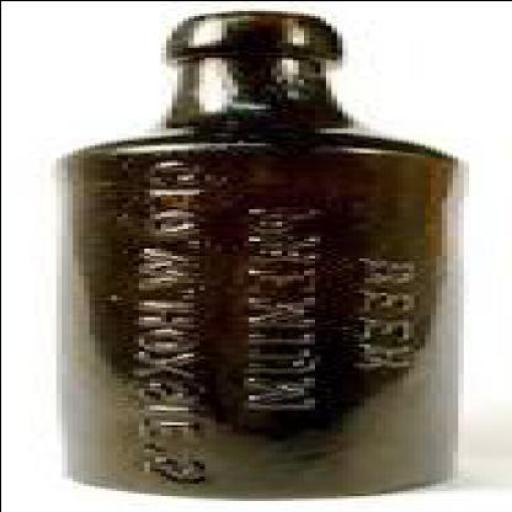glass: (66, 10, 468, 497)
